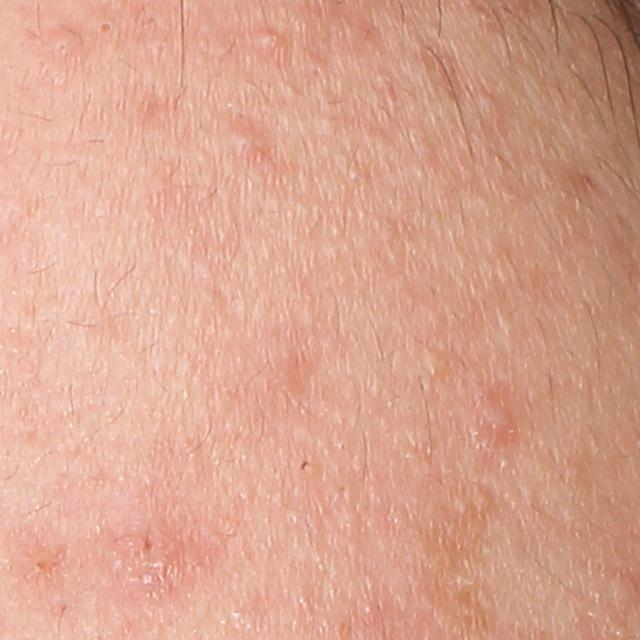comedo: (422, 351, 451, 377), (477, 88, 499, 122)
papule: (119, 525, 183, 583), (230, 128, 263, 162)
